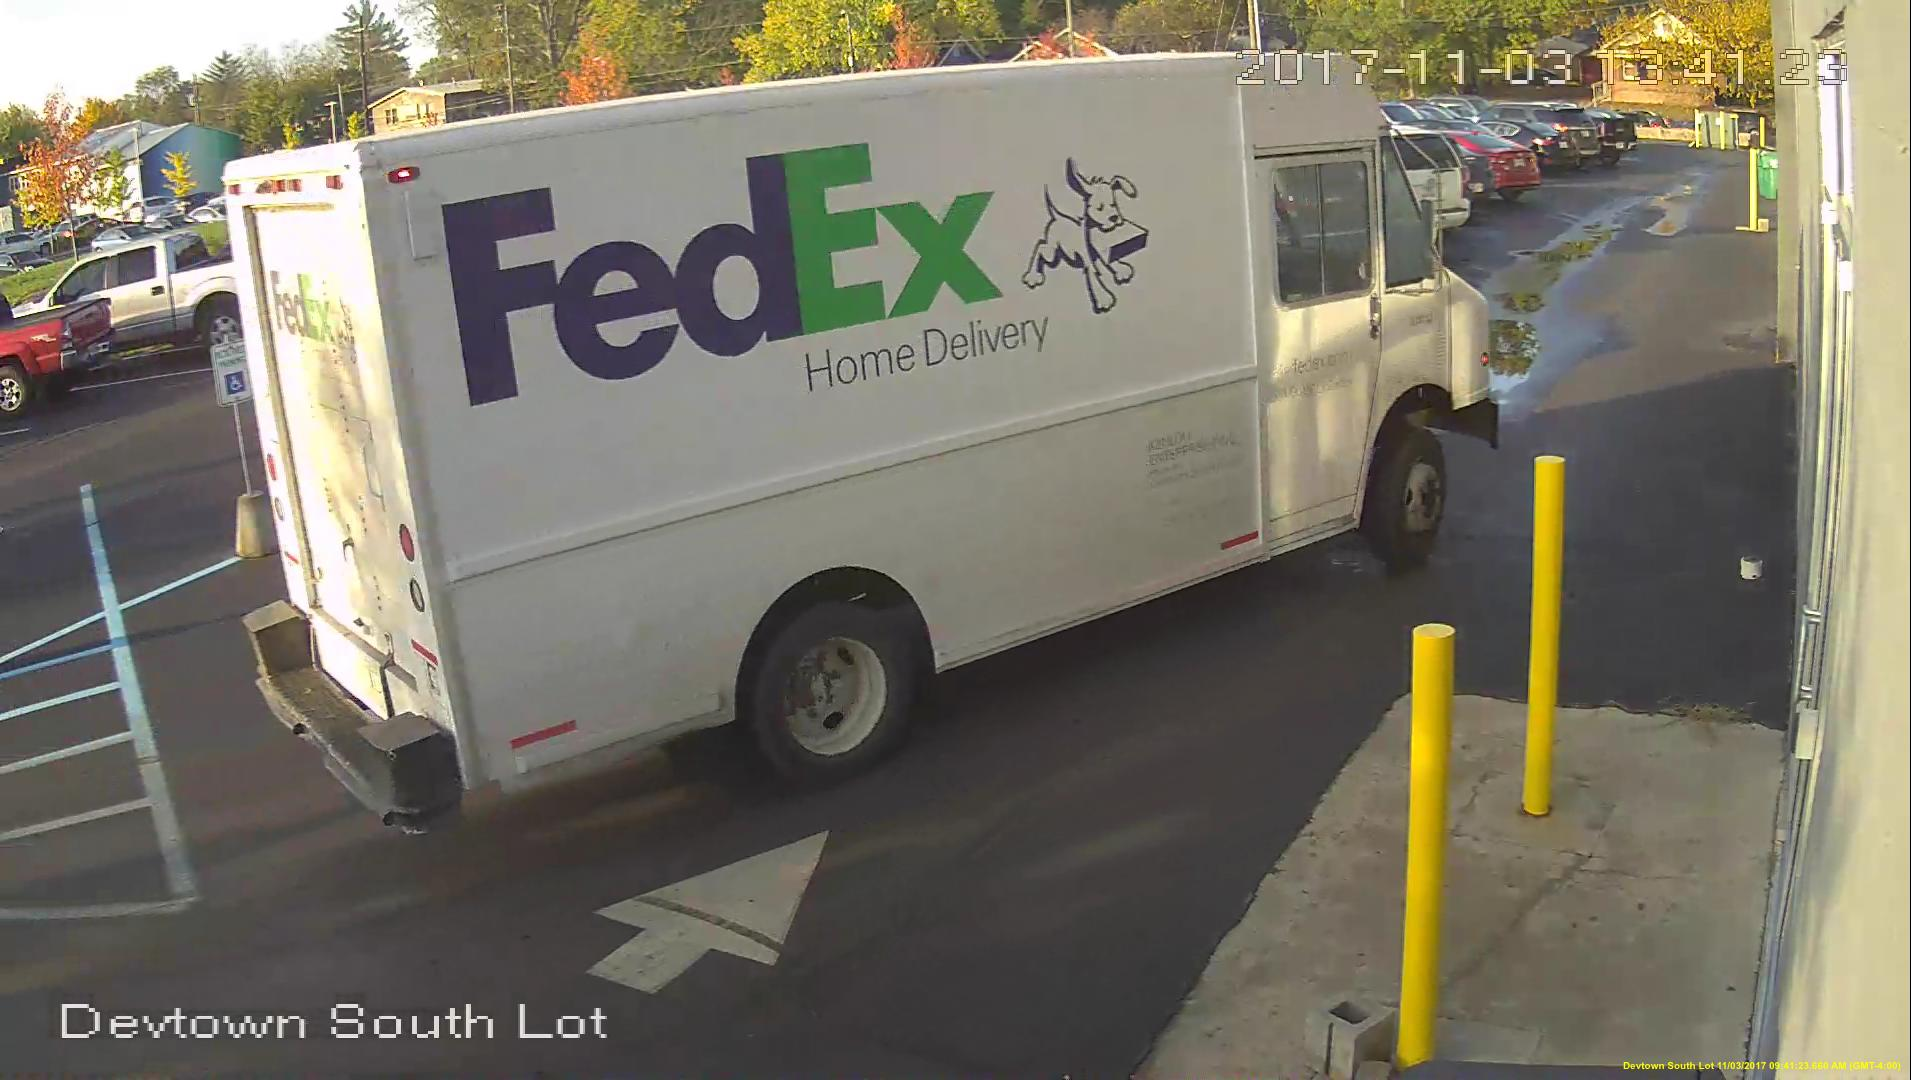fedex_truck: (228, 49, 1499, 832)
